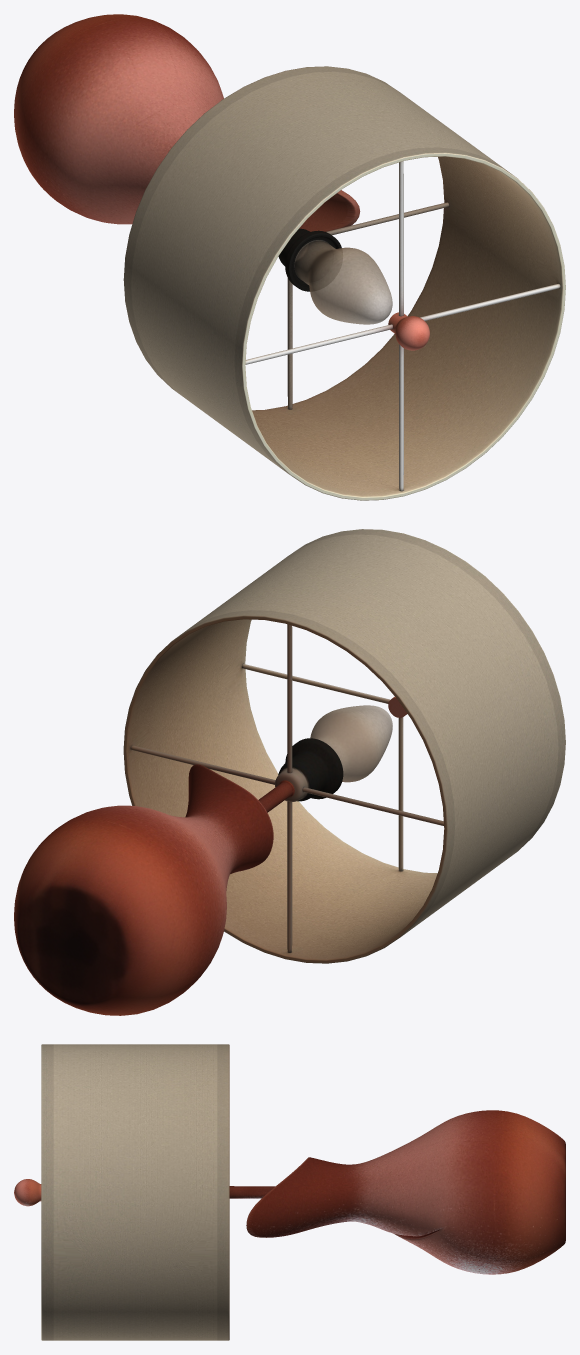
The picture shows the model from 3 angles, top to bottom: view 1: azimuth 30°, elevation 25°; view 2: azimuth 150°, elevation 25°; view 3: azimuth 270°, elevation 25°; orthographic projection. The views are drawn at different scales.
Visible parts, largest first — view 1: 10321_Table_Lamp; view 2: 10321_Table_Lamp; view 3: 10321_Table_Lamp.
Boxes of the visible parts, x1,y1,x2,y2 form: 10321_Table_Lamp: [14, 14, 565, 500]; 10321_Table_Lamp: [14, 529, 565, 1015]; 10321_Table_Lamp: [14, 1044, 565, 1340].
Bounding box in the file's own units: 41.19 × 41.19 × 76.67.
Materials: 2 (2 with a texture image).
